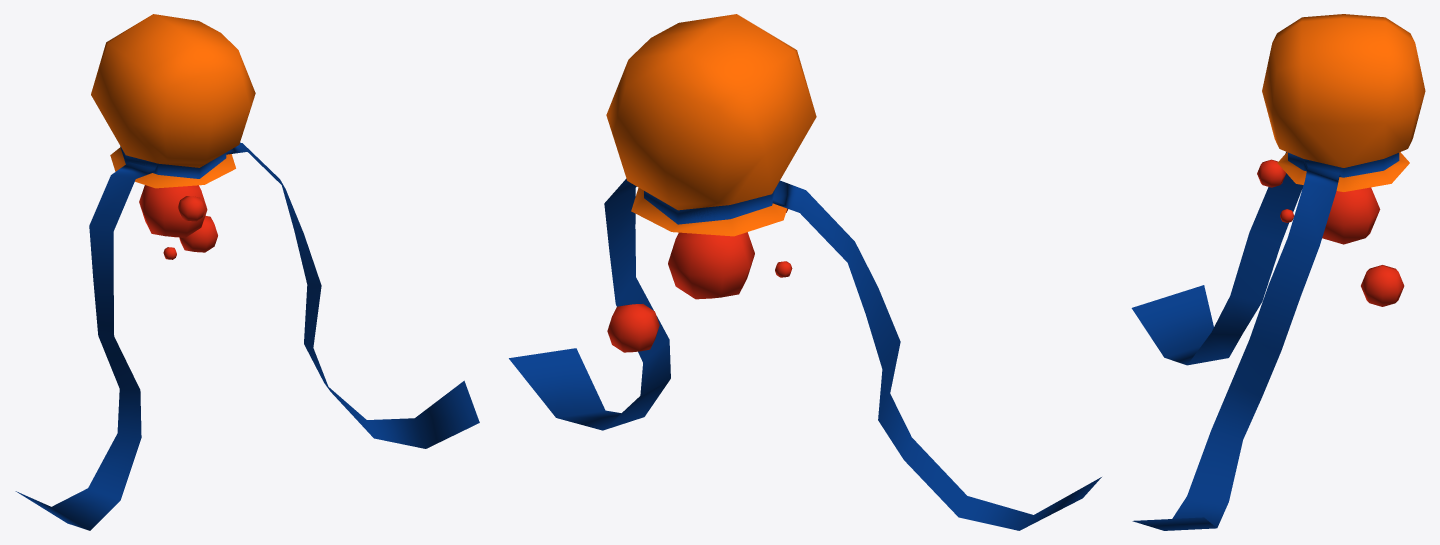
Rendered from waterBall.fbx.
The picture shows the model from 3 angles, left to right: view 1: azimuth 30°, elevation 25°; view 2: azimuth 150°, elevation 25°; view 3: azimuth 270°, elevation 25°; orthographic projection. The views are drawn at different scales.
Parts seen in each view (by area): view 1: Ball; view 2: Ball; view 3: Ball.
Part boxes in pixels (bbox=[...]): Ball: bbox=[15, 14, 479, 530]; Ball: bbox=[509, 14, 1101, 530]; Ball: bbox=[1131, 14, 1425, 530].
Bounding box in the file's own units: 316 × 270 × 169.
